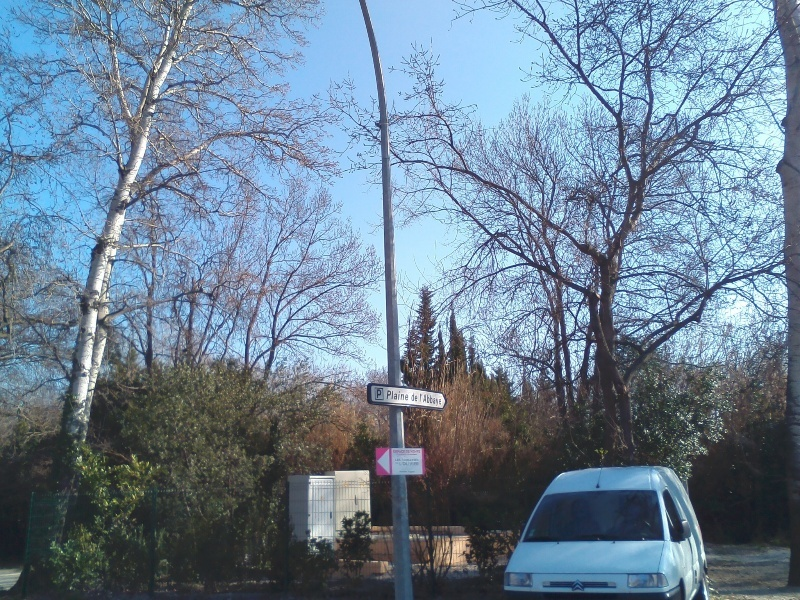text: (420, 393, 432, 407), (387, 390, 400, 401), (433, 393, 442, 407), (401, 390, 410, 401), (376, 388, 384, 399), (401, 462, 416, 466), (401, 470, 416, 474), (404, 449, 416, 454), (412, 392, 416, 402), (392, 449, 400, 454), (401, 449, 407, 454), (402, 459, 416, 461), (411, 449, 416, 454), (417, 392, 419, 402), (417, 449, 421, 454), (395, 459, 400, 462), (417, 462, 419, 466), (417, 459, 420, 461), (399, 470, 400, 474)
